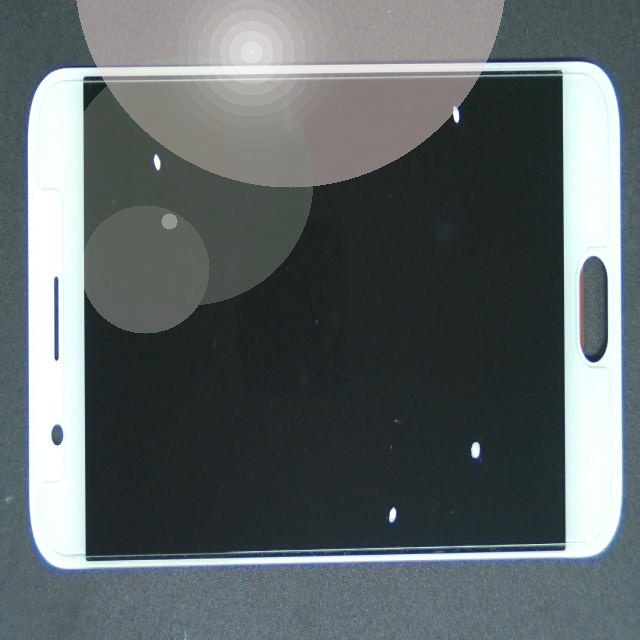stain: (212, 204, 582, 640), (248, 254, 640, 640), (225, 86, 640, 195), (107, 102, 239, 234)
